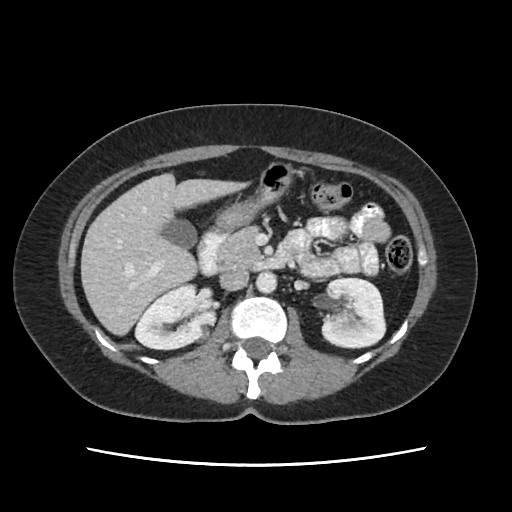Lesion: (198, 322, 215, 339)
